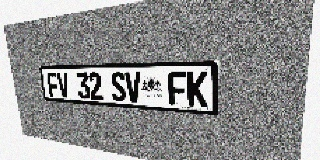2: (88, 72, 103, 100)
3: (76, 72, 90, 99)
F: (168, 72, 187, 106), (46, 72, 60, 97)
K: (187, 72, 208, 107)
S: (110, 72, 126, 102)
V: (125, 72, 142, 103), (57, 72, 70, 98)
